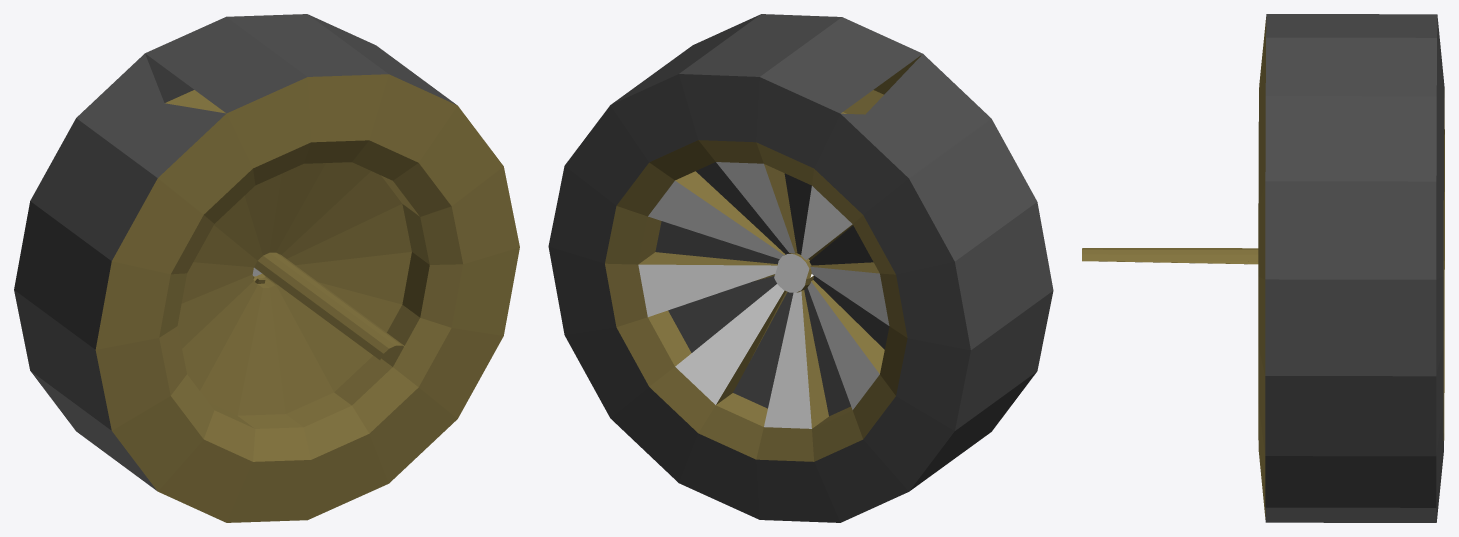
Rendered from BMW-Tire-Left.fbx.
The picture shows the model from 3 angles, left to right: view 1: azimuth 30°, elevation 25°; view 2: azimuth 150°, elevation 25°; view 3: azimuth 270°, elevation 25°; orthographic projection. The views are drawn at different scales.
Visible parts, largest first — view 1: BMW.003; view 2: BMW.003; view 3: BMW.003.
Part boxes in pixels (left/top/right/bottom): BMW.003: left=14, top=14, right=519, bottom=522; BMW.003: left=548, top=14, right=1053, bottom=522; BMW.003: left=1082, top=14, right=1444, bottom=522.
Size of the model in its own units: 201 by 201 by 143.
